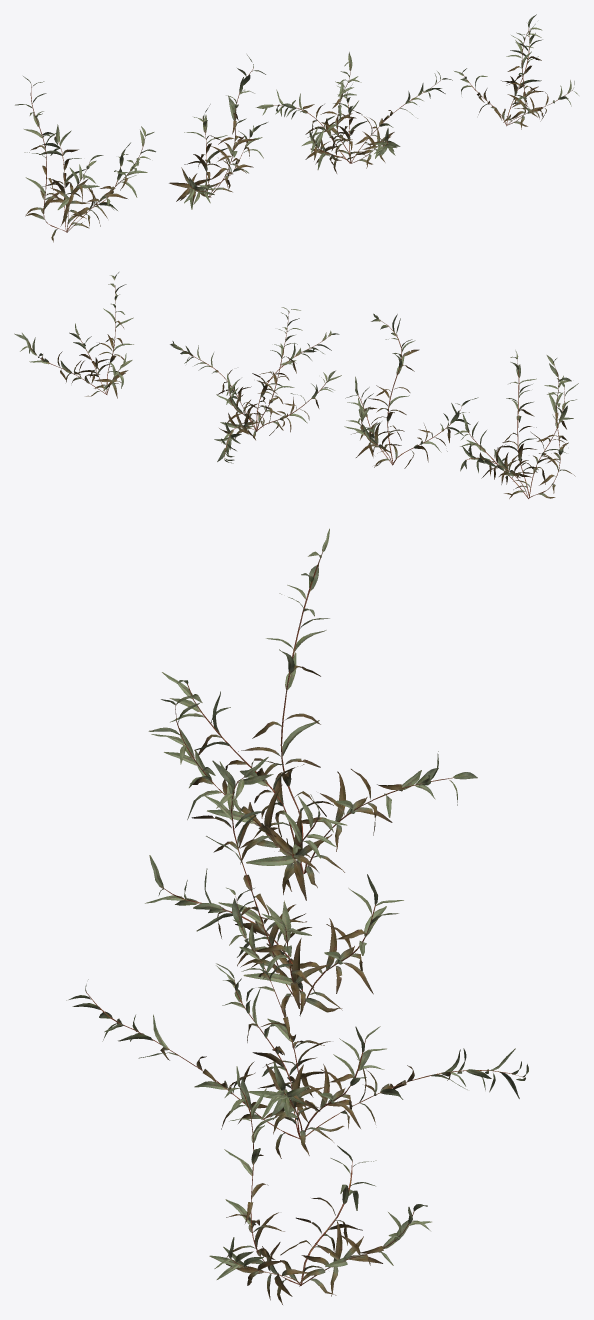
The model's file is shrub.glb.
3 views of the same model, one above another, from view 1: azimuth 30°, elevation 25°; view 2: azimuth 150°, elevation 25°; view 3: azimuth 270°, elevation 25° (orthographic). The views are drawn at different scales.
Parts seen in each view (by area): view 1: shrub_02_a, shrub_02_c, shrub_02_b, shrub_02_d; view 2: shrub_02_a, shrub_02_c, shrub_02_b, shrub_02_d; view 3: shrub_02_a, shrub_02_c, shrub_02_b, shrub_02_d.
Part boxes in pixels (left/top/right/bottom): shrub_02_a: left=15, top=76, right=155, bottom=242; shrub_02_c: left=256, top=52, right=452, bottom=173; shrub_02_b: left=169, top=55, right=267, bottom=209; shrub_02_d: left=454, top=14, right=578, bottom=129; shrub_02_a: left=454, top=350, right=578, bottom=498; shrub_02_c: left=170, top=307, right=341, bottom=463; shrub_02_b: left=344, top=313, right=478, bottom=468; shrub_02_d: left=14, top=272, right=133, bottom=398; shrub_02_a: left=148, top=528, right=477, bottom=900; shrub_02_c: left=66, top=887, right=528, bottom=1158; shrub_02_b: left=145, top=757, right=403, bottom=1017; shrub_02_d: left=209, top=1066, right=431, bottom=1304.
Size of the model in its own units: 6.04 by 1.7 by 2.29.
1 material, 1 textured.
